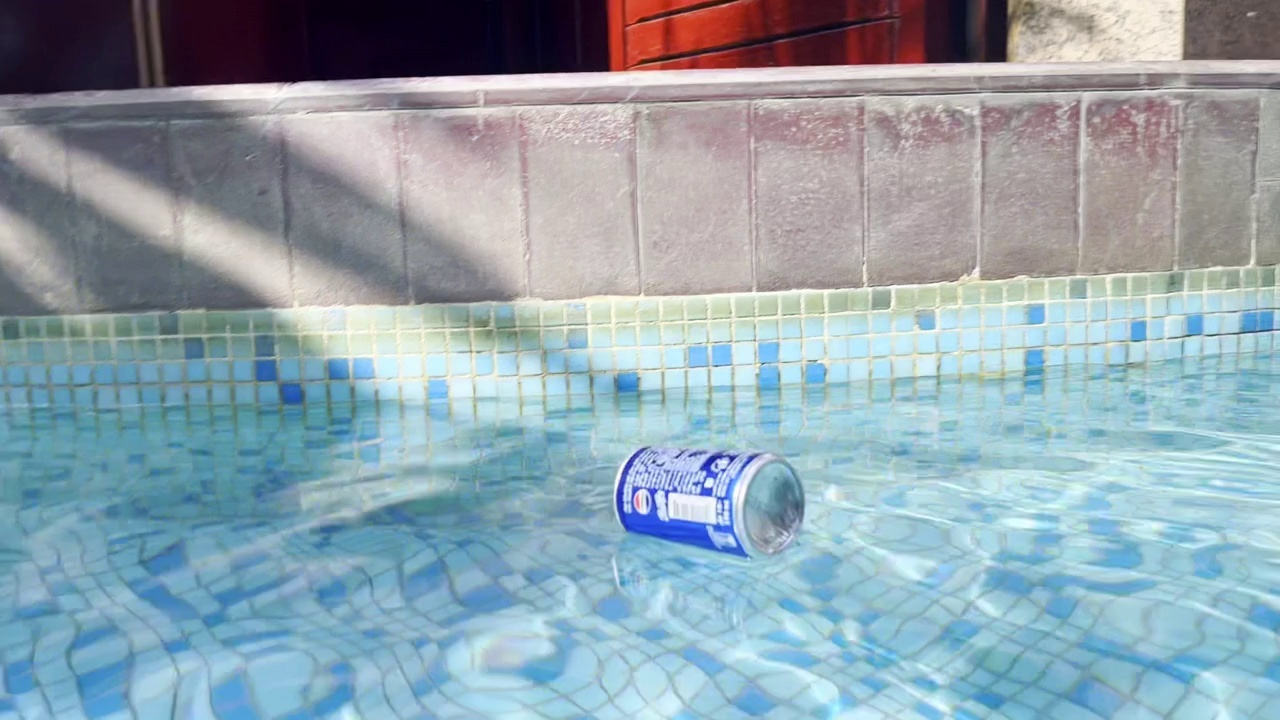debris: (604, 428, 814, 567)
